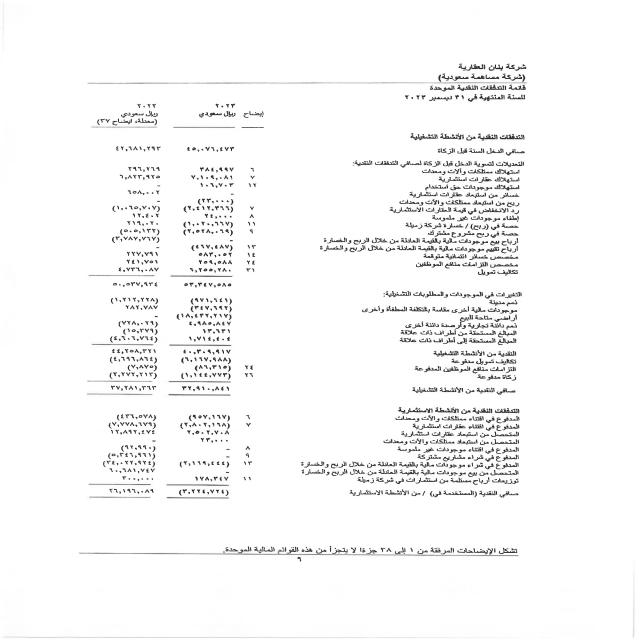financial_sheets: (414, 80, 539, 92)
table: (43, 95, 276, 504)
